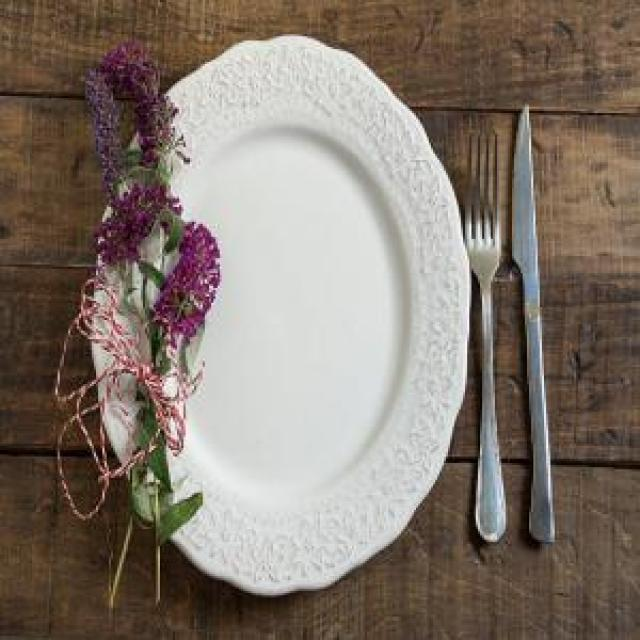knife: (510, 107, 558, 548)
